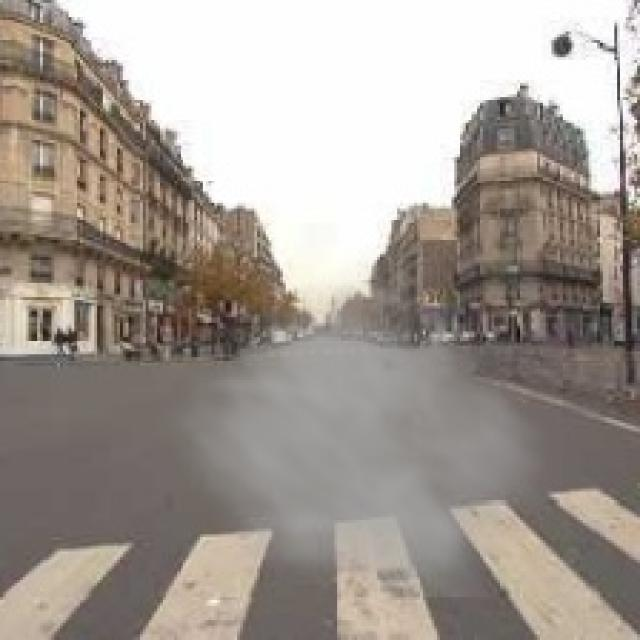smoke: (163, 246, 560, 597)
